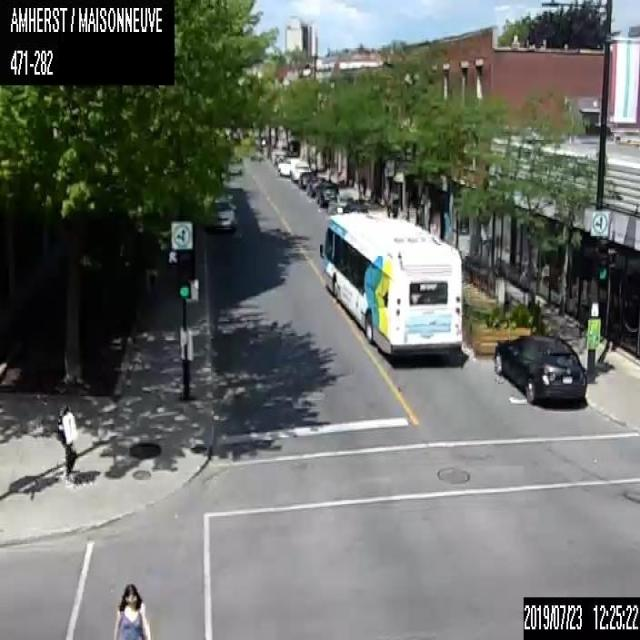bus: (318, 210, 462, 363)
pedestrian: (112, 582, 151, 638), (58, 404, 78, 479), (361, 173, 366, 196)
vehicle: (494, 332, 586, 404), (211, 193, 236, 232), (327, 188, 358, 212), (316, 180, 338, 206), (306, 176, 326, 197), (290, 160, 309, 180), (343, 202, 367, 212), (298, 171, 314, 186)
